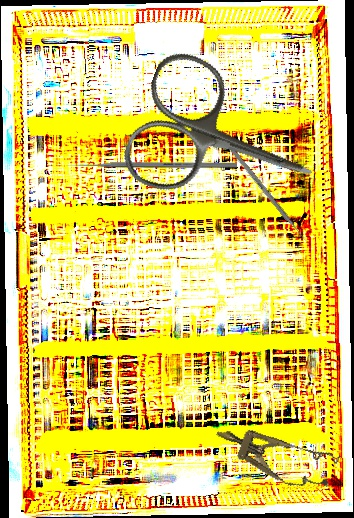Iris Scissors: (116, 44, 336, 240)
Pusher: (227, 144, 311, 247), (66, 162, 237, 168)
Speculum: (208, 411, 342, 499)
